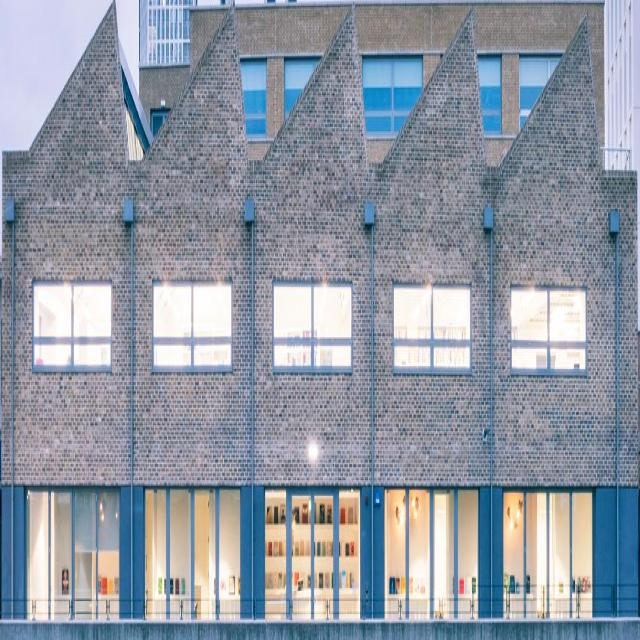door: (144, 484, 243, 622), (26, 488, 120, 624), (384, 487, 479, 621), (265, 487, 359, 621), (502, 489, 594, 623)
window: (271, 277, 352, 371), (392, 279, 472, 374), (31, 280, 111, 374), (151, 277, 232, 368), (510, 282, 587, 376)
